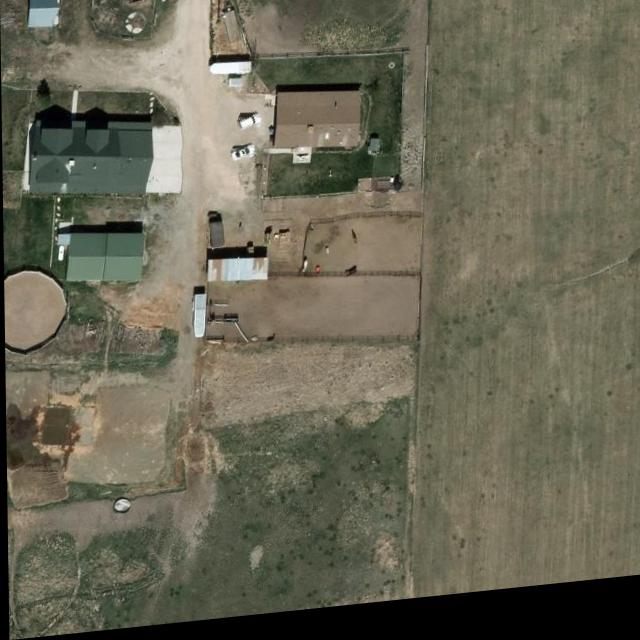vehicle: (229, 147, 259, 167), (236, 117, 263, 139)
